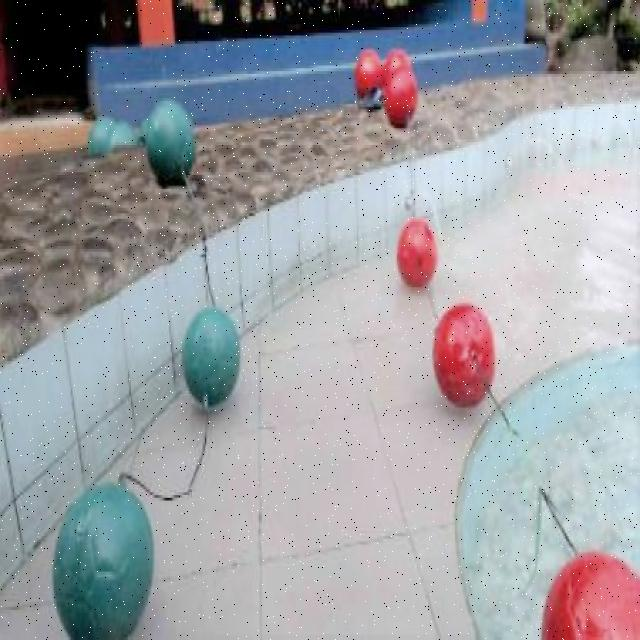buoy: (51, 478, 155, 638), (541, 551, 638, 637), (430, 301, 496, 410), (181, 306, 240, 404), (144, 98, 194, 182), (394, 218, 437, 292), (382, 66, 417, 126)
